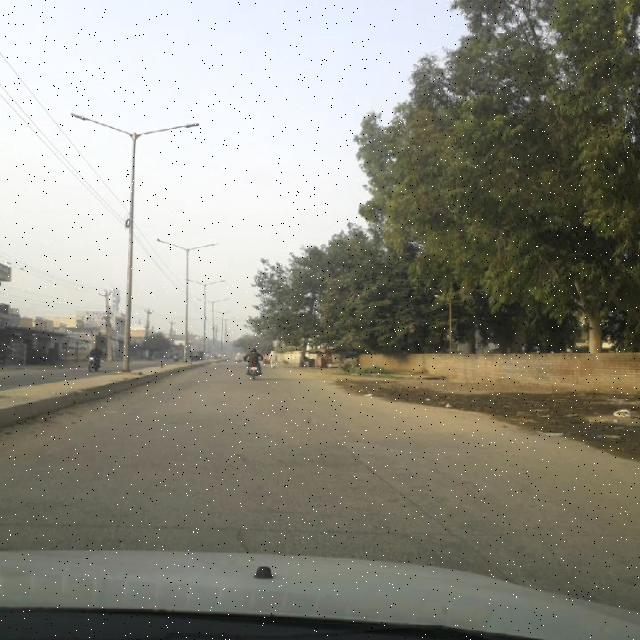D01: (332, 428, 483, 556)
D11: (1, 521, 460, 539)
